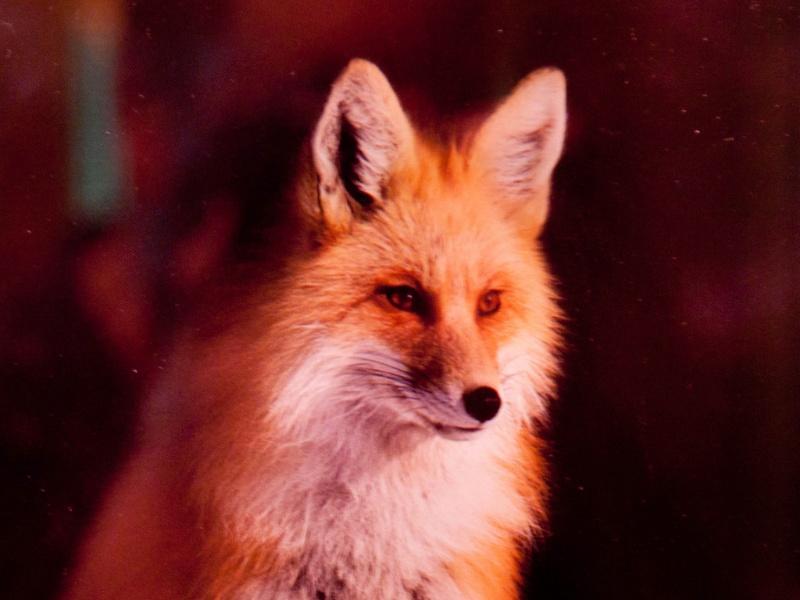fox: (60, 57, 578, 600)
